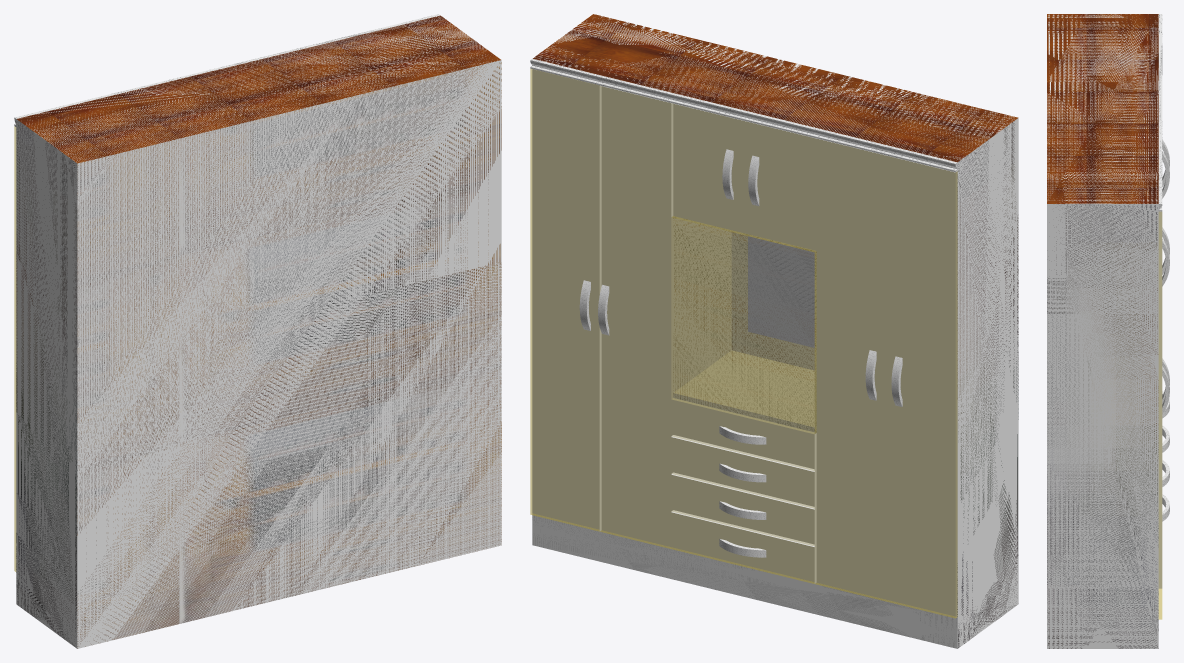
3 renders of one model, left to right at view 1: azimuth 30°, elevation 25°; view 2: azimuth 150°, elevation 25°; view 3: azimuth 270°, elevation 25°, orthographic. The views are drawn at different scales.
Visible parts, largest first — view 1: mesh1_mesh1-geometry; view 2: mesh1_mesh1-geometry; view 3: mesh1_mesh1-geometry.
Part boxes in pixels (x1,y1,x2,y2): mesh1_mesh1-geometry: (14, 14, 501, 648); mesh1_mesh1-geometry: (530, 14, 1018, 648); mesh1_mesh1-geometry: (1047, 14, 1169, 648).
Bounding box in the file's own units: 0.6637 × 0.7257 × 0.1815.
